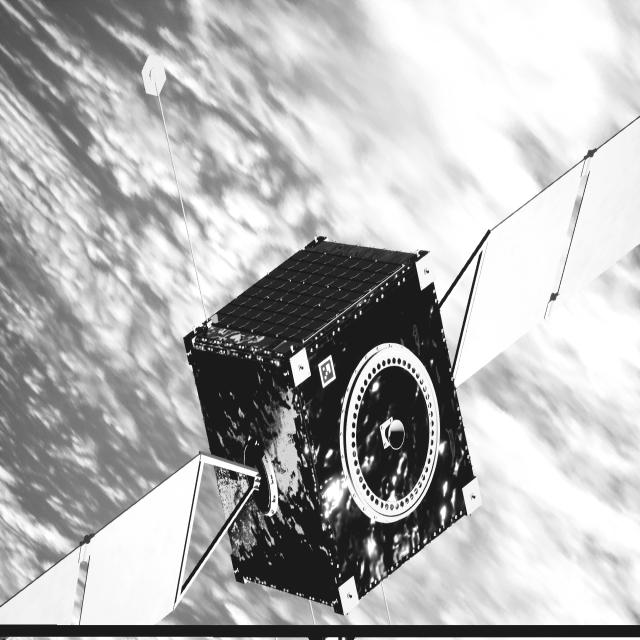satellite: (0, 116, 640, 628)
